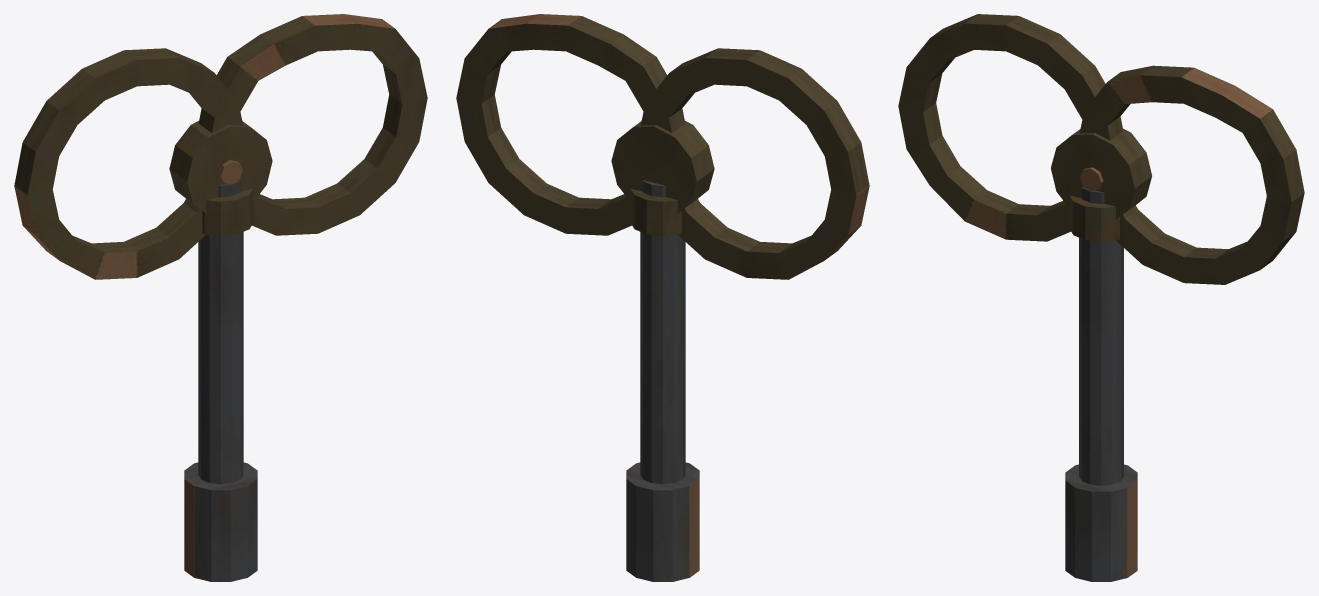
Rendered from P17_music_box_key.glb.
The picture shows the model from 3 angles, left to right: view 1: azimuth 30°, elevation 25°; view 2: azimuth 150°, elevation 25°; view 3: azimuth 330°, elevation 25°; orthographic projection.
Visible parts, largest first — view 1: Left finger bow; view 2: Left finger bow; view 3: Left finger bow.
Part boxes in pixels (left/top/right/bottom): Left finger bow: left=14, top=14, right=427, bottom=581; Left finger bow: left=456, top=14, right=869, bottom=581; Left finger bow: left=898, top=14, right=1304, bottom=581.
Bounding box in the file's own units: 0.0785 × 0.1 × 0.0125.
Materials: 3 (3 with a texture image).
